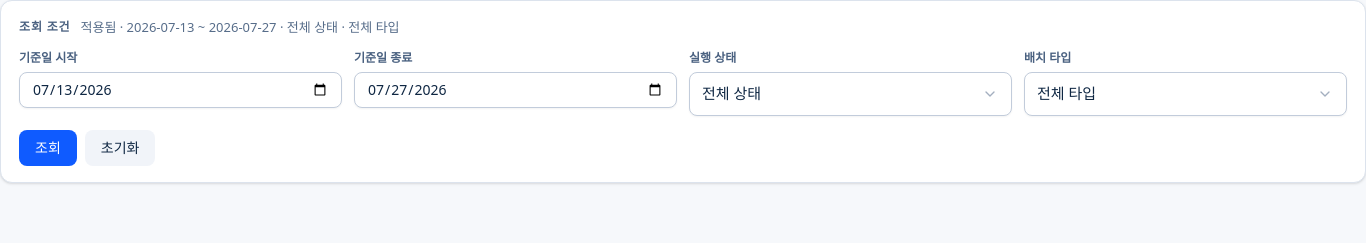
it: BatchFilters › rejects from > to with the exact swap message, attached to the start date field
In the date field labelled "기준일 시작": [180, 90] box 19,72 -> 342,108, type "2026-07-27"
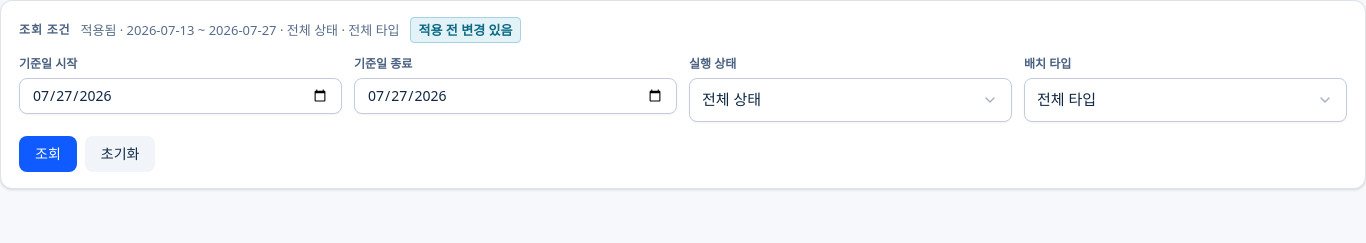
In the date field labelled "기준일 종료": [516, 96] box 354,78 -> 677,114, type "2026-07-13"
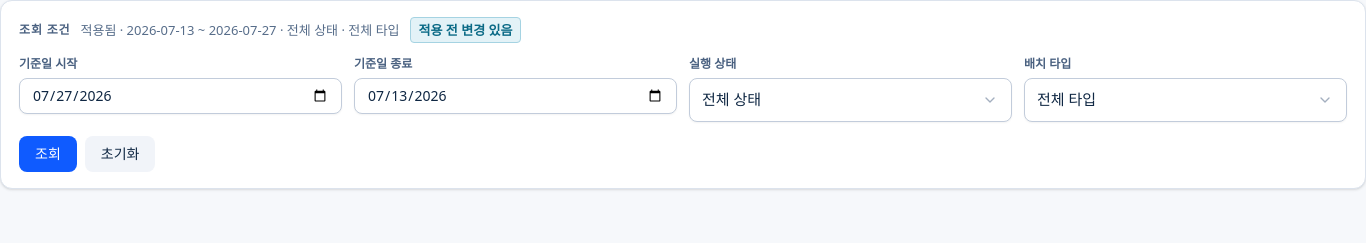
Click the button "조회": [48, 154] box 19,136 -> 77,172
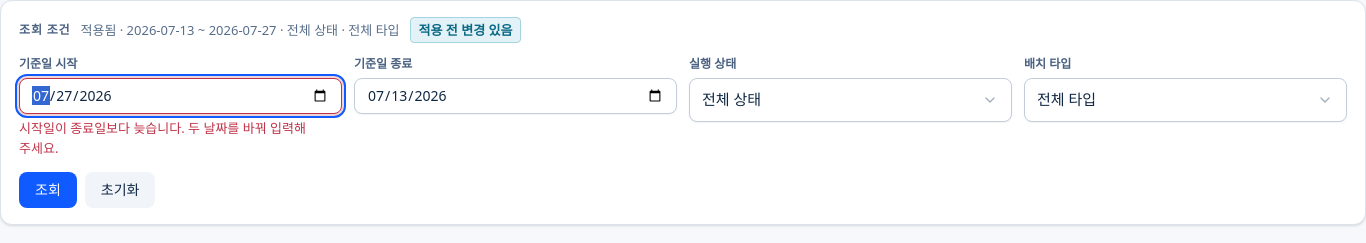
Now the text "시작일이 종료일보다 늦습니다. 두 날짜를 바꿔 입력해 주세요." is shown, box 19,118 -> 342,158
